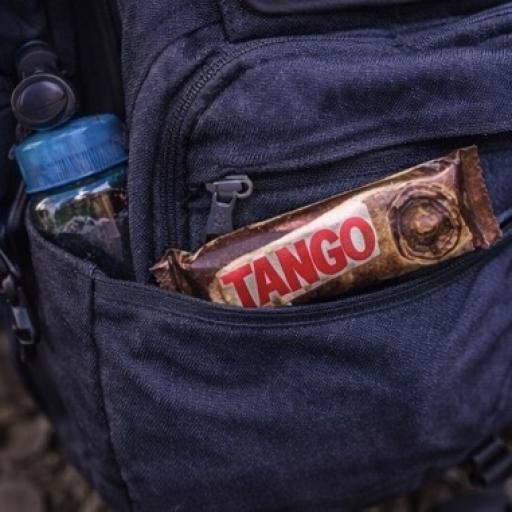tango: (129, 142, 505, 336)
